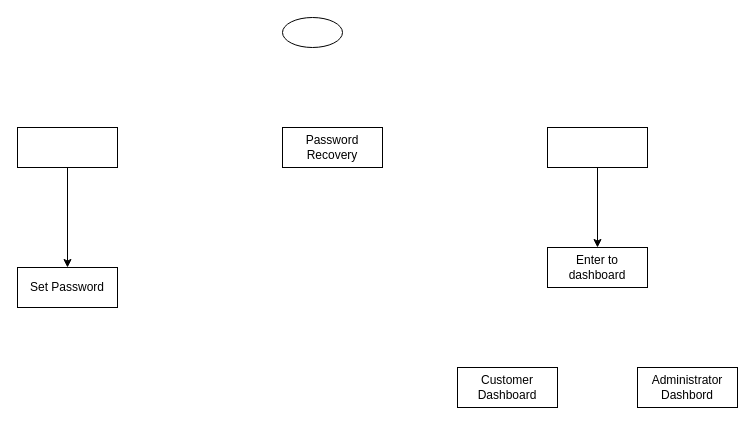
Some shapes in this 755 by 425 pixel diagram are drawn without their labels. Each missing label, with the box of its shape:
LogIn: (546, 126, 648, 168)
Registration: (16, 126, 118, 168)
Start: (282, 16, 342, 48)
